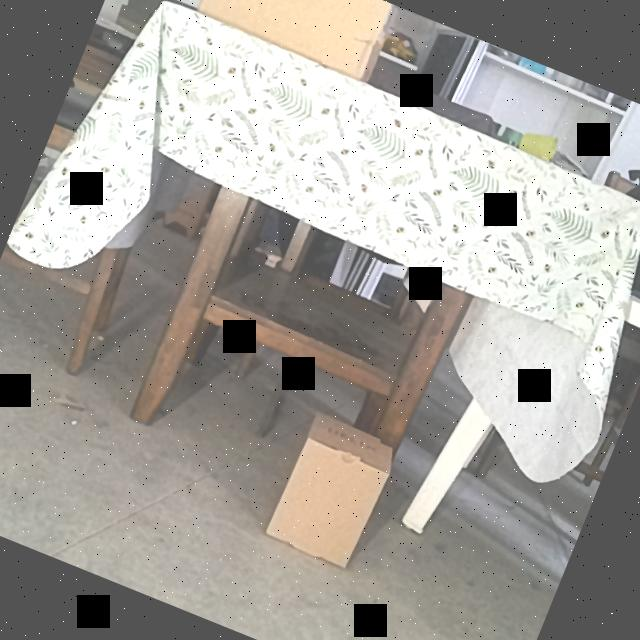box: (265, 436, 388, 570), (194, 0, 392, 79)
